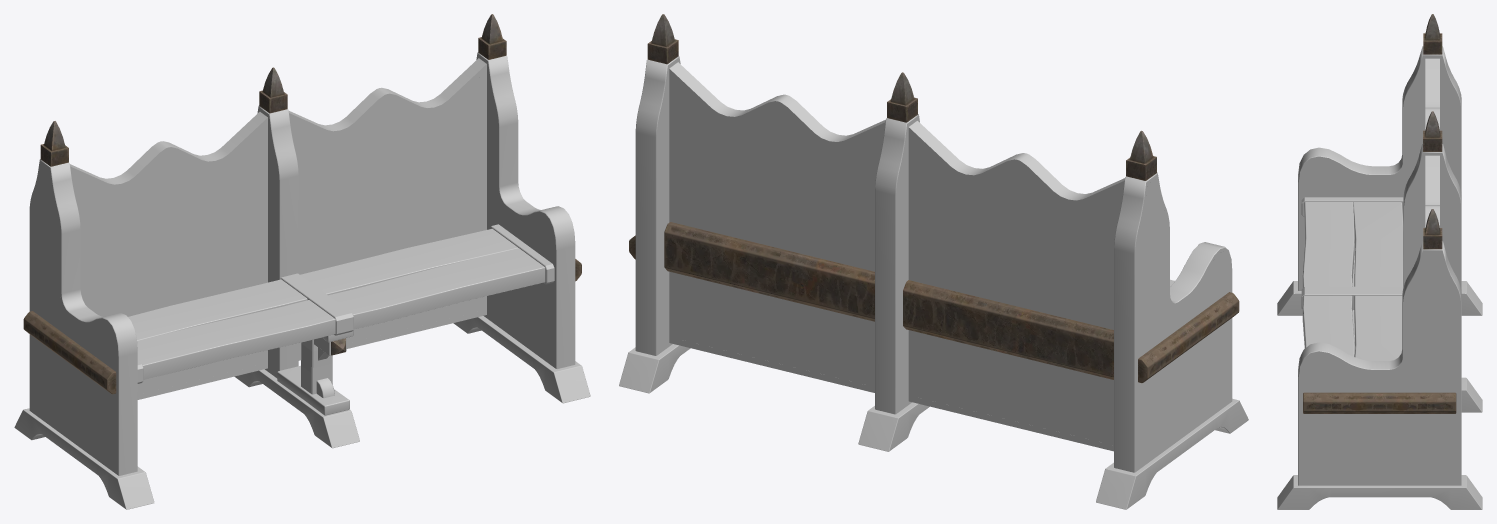
The picture shows the model from 3 angles, left to right: view 1: azimuth 30°, elevation 25°; view 2: azimuth 150°, elevation 25°; view 3: azimuth 270°, elevation 25°; orthographic projection. The views are drawn at different scales.
Parts seen in each view (by area): view 1: SM_DR_MagesPews_A_01_01_LOD0; view 2: SM_DR_MagesPews_A_01_01_LOD0; view 3: SM_DR_MagesPews_A_01_01_LOD0.
Part boxes in pixels (left/top/right/bottom): SM_DR_MagesPews_A_01_01_LOD0: left=14, top=14, right=590, bottom=509; SM_DR_MagesPews_A_01_01_LOD0: left=619, top=14, right=1248, bottom=509; SM_DR_MagesPews_A_01_01_LOD0: left=1277, top=14, right=1482, bottom=509.
Bounding box in the file's own units: 2.26 × 1.47 × 0.9261.
